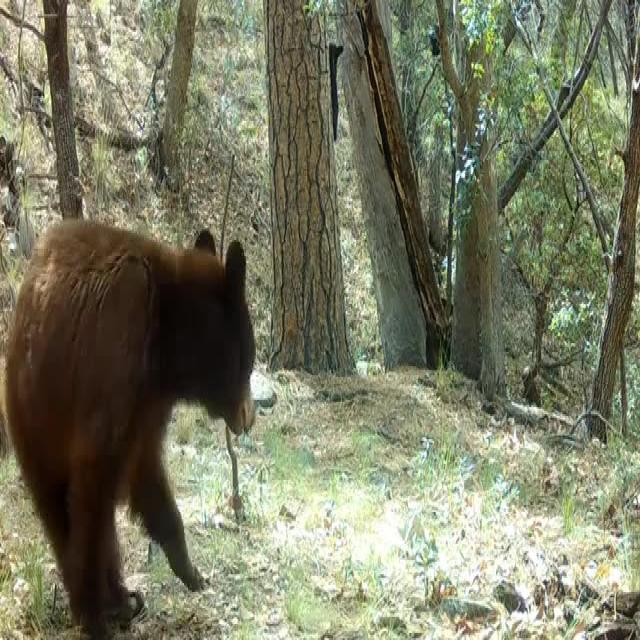bear face: (10, 218, 258, 638)
